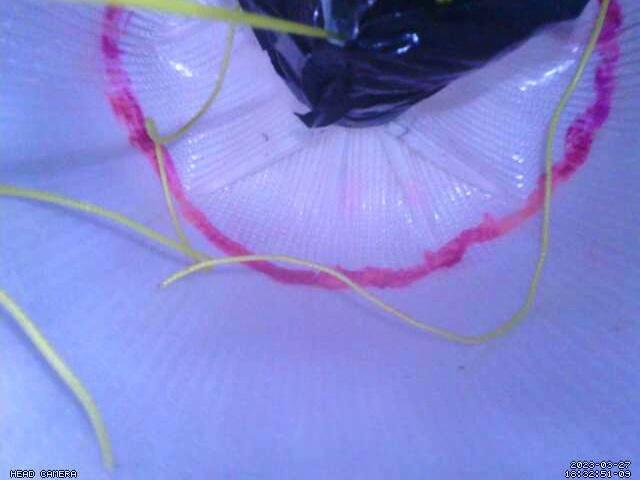head: (98, 0, 625, 289)
